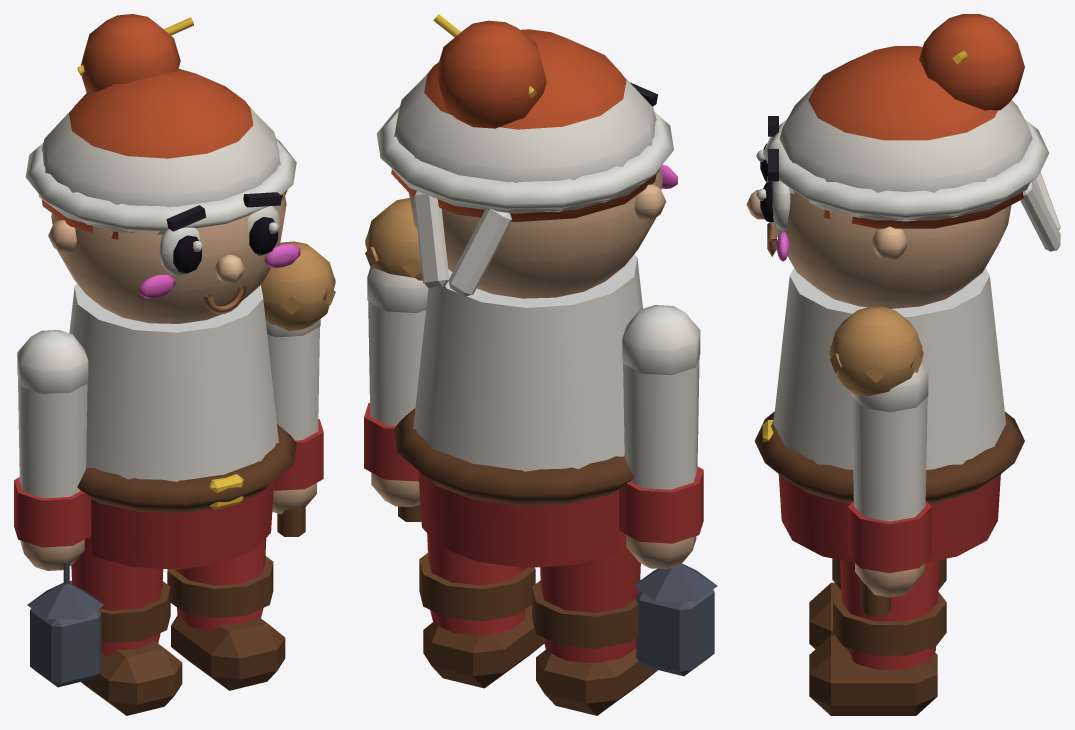
Rendered from hero_bertha.glb.
The picture shows the model from 3 angles, left to right: view 1: azimuth 30°, elevation 25°; view 2: azimuth 150°, elevation 25°; view 3: azimuth 270°, elevation 25°; orthographic projection. The views are drawn at different scales.
Parts seen in each view (by area): view 1: body_t0_palette, arml_t0_palette, armr_t0_palette, legr_t0_palette, legl_t0_palette; view 2: body_t0_palette, arml_t0_palette, legl_t0_palette, armr_t0_palette, legr_t0_palette; view 3: body_t0_palette, armr_t0_palette, legr_t0_palette, legl_t0_palette.
Part boxes in pixels (x1=…): body_t0_palette: x1=25, y1=14, x2=300, y2=569; arml_t0_palette: x1=14, y1=330, x2=103, y2=687; armr_t0_palette: x1=261, y1=241, x2=335, y2=536; legr_t0_palette: x1=167, y1=538, x2=285, y2=690; legl_t0_palette: x1=69, y1=536, x2=182, y2=715; body_t0_palette: x1=376, y1=14, x2=677, y2=567; arml_t0_palette: x1=619, y1=305, x2=717, y2=676; legl_t0_palette: x1=532, y1=532, x2=657, y2=715; armr_t0_palette: x1=364, y1=198, x2=428, y2=521; legr_t0_palette: x1=419, y1=533, x2=544, y2=688; body_t0_palette: x1=746, y1=14, x2=1060, y2=562; armr_t0_palette: x1=829, y1=306, x2=931, y2=616; legr_t0_palette: x1=809, y1=560, x2=946, y2=715; legl_t0_palette: x1=809, y1=558, x2=946, y2=648.
Bounding box in the file's own units: 0.274 × 0.54 × 0.2322.
